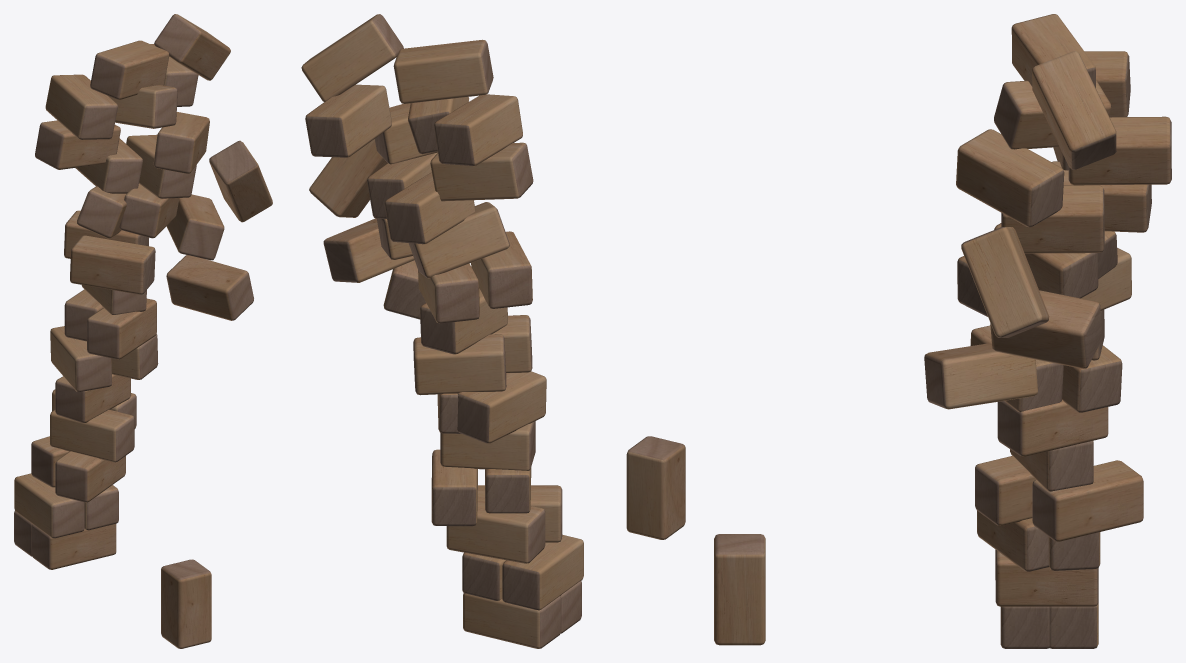
The model's file is exp4.fbx.
3 views of the same model, side by side, from view 1: azimuth 30°, elevation 25°; view 2: azimuth 150°, elevation 25°; view 3: azimuth 270°, elevation 25° (orthographic). The views are drawn at different scales.
Parts seen in each view (by area): view 1: rectangle_block98, rectangle_block, rectangle_block69, rectangle_block99, rectangle_block78, rectangle_block58, rectangle_block97, rectangle_block55, rectangle_block65, rectangle_block95, rectangle_block72, rectangle_block100 (+19 smaller); view 2: rectangle_block, rectangle_block78, rectangle_block99, rectangle_block96, rectangle_block95, rectangle_block64, rectangle_block63, rectangle_block72, rectangle_block56, rectangle_block55, rectangle_block71, rectangle_block52 (+19 smaller); view 3: rectangle_block73, rectangle_block95, rectangle_block59, rectangle_block97, rectangle_block98, rectangle_block, rectangle_block100, rectangle_block96, rectangle_block62, rectangle_block75, rectangle_block54, rectangle_block58 (+15 smaller).
Part boxes in pixels (bbox=[...]): rectangle_block98: bbox=[166, 255, 253, 320]; rectangle_block: bbox=[161, 559, 211, 648]; rectangle_block69: bbox=[70, 235, 155, 294]; rectangle_block99: bbox=[45, 74, 117, 139]; rectangle_block78: bbox=[90, 40, 169, 99]; rectangle_block58: bbox=[50, 409, 134, 462]; rectangle_block97: bbox=[209, 140, 272, 222]; rectangle_block55: bbox=[14, 473, 84, 538]; rectangle_block65: bbox=[87, 298, 156, 359]; rectangle_block95: bbox=[154, 14, 230, 80]; rectangle_block72: bbox=[35, 120, 120, 169]; rectangle_block100: bbox=[166, 194, 224, 260]; rectangle_block: bbox=[626, 436, 685, 539]; rectangle_block78: bbox=[393, 39, 493, 103]; rectangle_block99: bbox=[434, 94, 522, 166]; rectangle_block96: bbox=[305, 84, 391, 157]; rectangle_block95: bbox=[301, 14, 403, 101]; rectangle_block64: bbox=[413, 334, 506, 395]; rectangle_block63: bbox=[457, 371, 546, 443]; rectangle_block72: bbox=[430, 142, 533, 201]; rectangle_block56: bbox=[446, 496, 545, 563]; rectangle_block55: bbox=[502, 534, 583, 610]; rectangle_block71: bbox=[408, 202, 509, 278]; rectangle_block52: bbox=[463, 593, 561, 648]; rectangle_block73: bbox=[956, 129, 1064, 227]; rectangle_block95: bbox=[1032, 51, 1116, 169]; rectangle_block59: bbox=[1032, 460, 1143, 541]; rectangle_block97: bbox=[961, 226, 1049, 337]; rectangle_block98: bbox=[924, 343, 1037, 409]; rectangle_block: bbox=[714, 534, 765, 645]; rectangle_block100: bbox=[990, 290, 1102, 368]; rectangle_block96: bbox=[1068, 116, 1171, 185]; rectangle_block62: bbox=[997, 400, 1108, 456]; rectangle_block75: bbox=[1001, 185, 1104, 253]; rectangle_block54: bbox=[995, 550, 1098, 606]; rectangle_block58: bbox=[975, 456, 1035, 525].
Size of the model in its own units: 22.84 by 49.42 by 31.07.
Materials: 1 (1 with a texture image).
